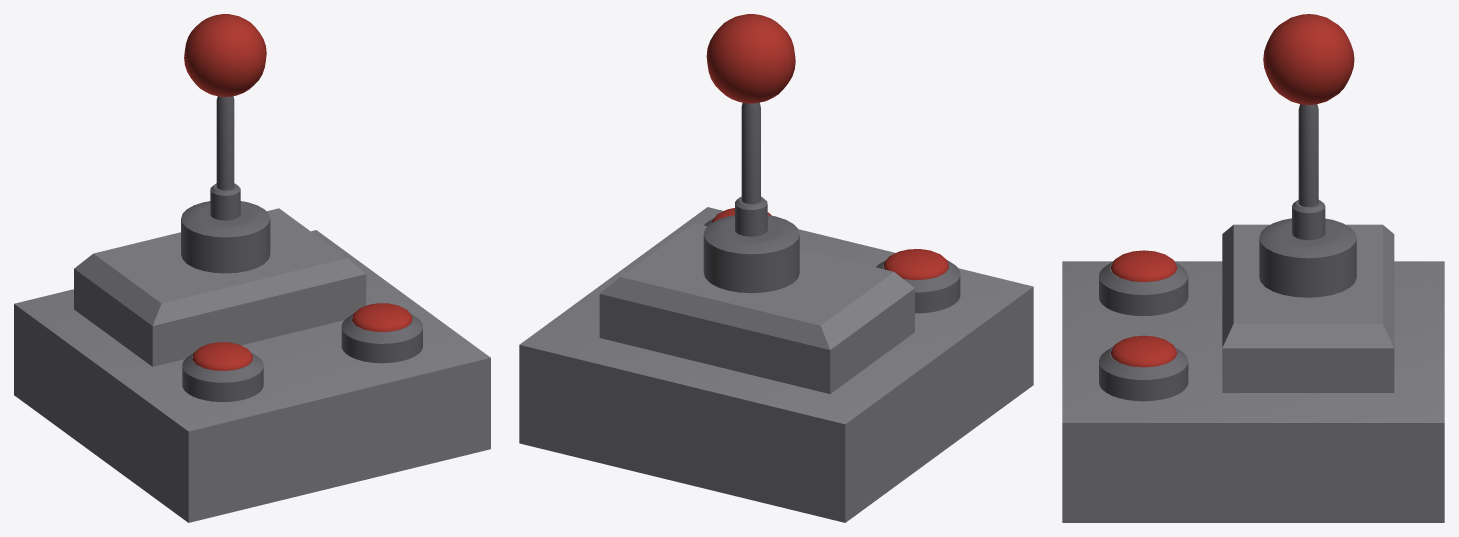
Rendered from Joystick (2).fbx.
3 views of the same model, side by side, from view 1: azimuth 30°, elevation 25°; view 2: azimuth 150°, elevation 25°; view 3: azimuth 270°, elevation 25° (orthographic). The views are drawn at different scales.
Parts seen in each view (by area): view 1: Joystick; view 2: Joystick; view 3: Joystick.
Boxes of the visible parts, x1,y1,x2,y2 form: Joystick: [14, 14, 490, 522]; Joystick: [519, 14, 1033, 522]; Joystick: [1062, 14, 1444, 522].
Size of the model in its own units: 129 by 157 by 129.
